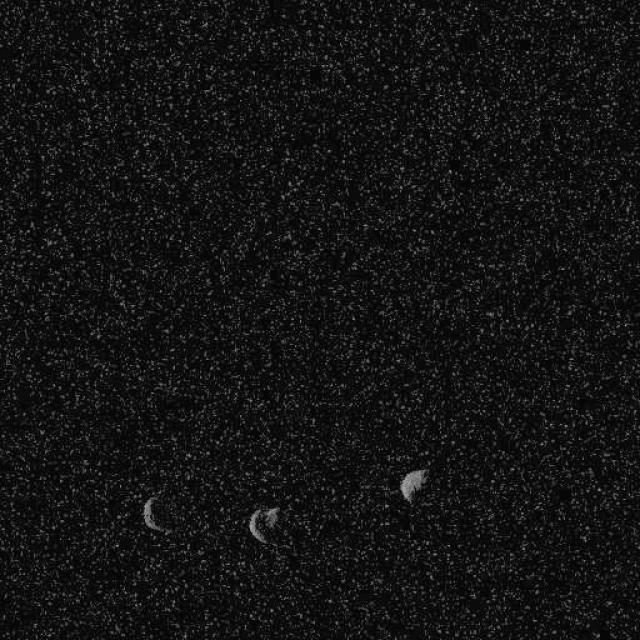D2: (248, 505, 280, 545), (142, 495, 172, 535), (398, 466, 428, 502)
